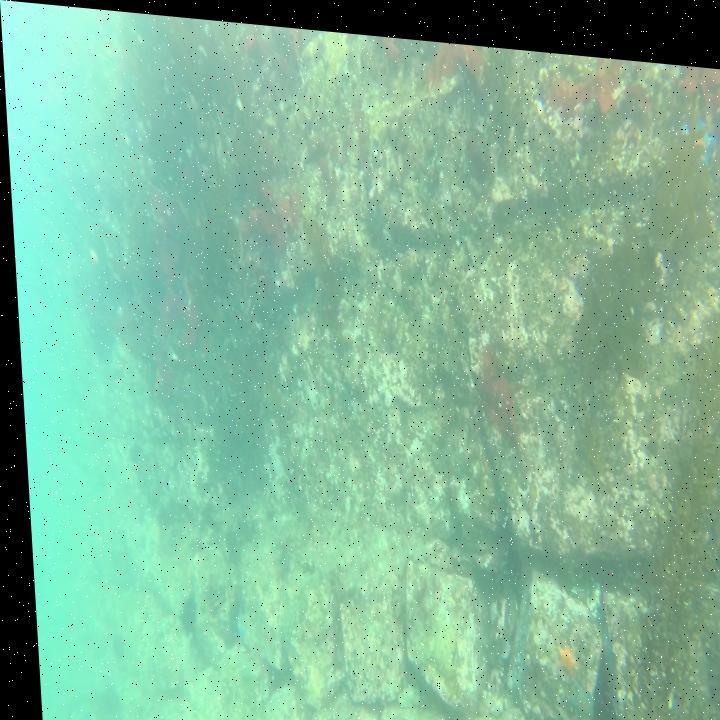echinus: (86, 318, 114, 362), (170, 590, 193, 629)
starfish: (678, 96, 719, 159), (559, 672, 585, 711), (550, 631, 571, 669), (225, 606, 239, 639)
